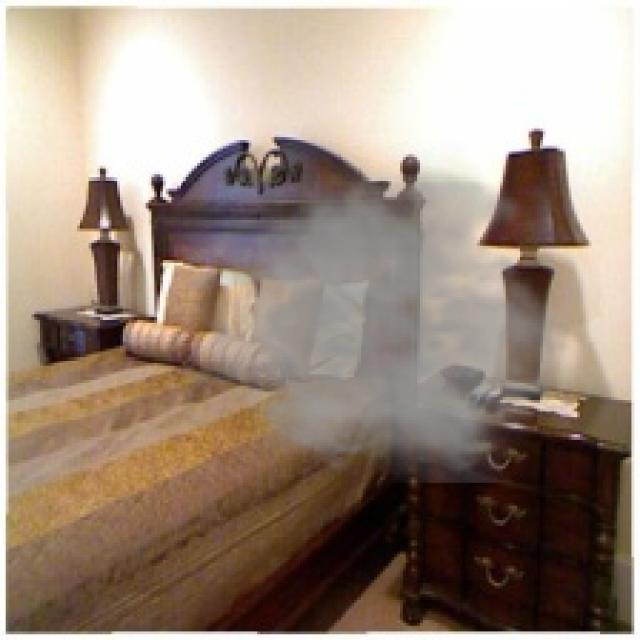Smoke: (171, 140, 583, 483)
